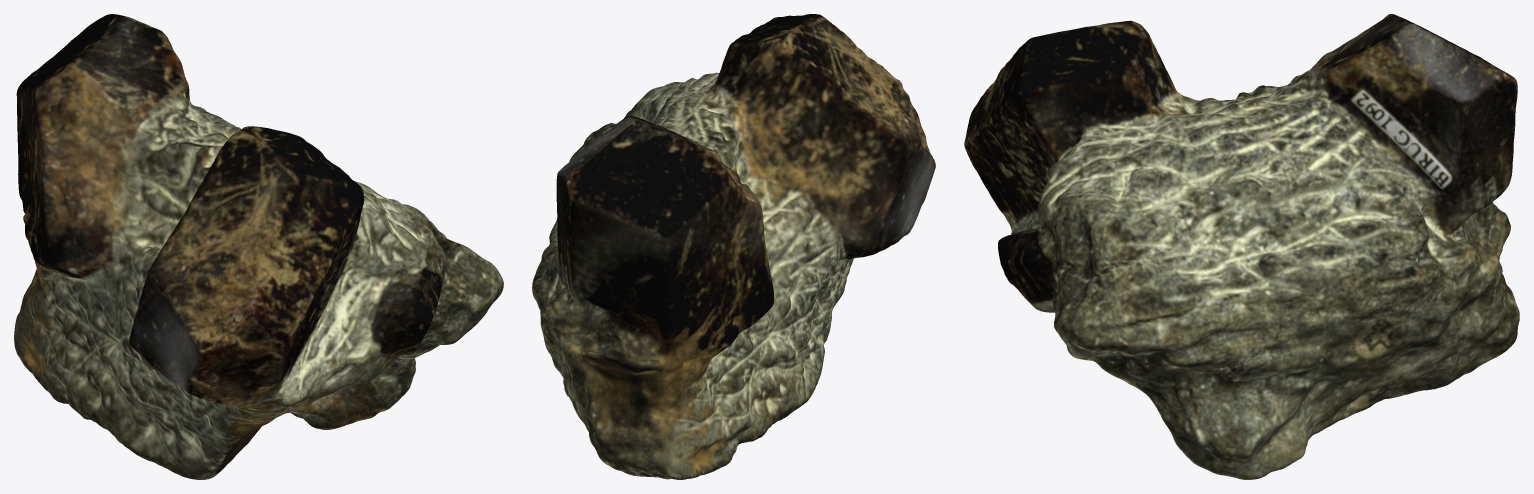
The model's file is red-garnet-real-scan.glb.
The picture shows the model from 3 angles, left to right: view 1: azimuth 30°, elevation 25°; view 2: azimuth 150°, elevation 25°; view 3: azimuth 270°, elevation 25°; orthographic projection. The views are drawn at different scales.
Parts seen in each view (by area): view 1: Object_2, Object_3; view 2: Object_2, Object_3; view 3: Object_3, Object_2.
Part boxes in pixels (x1,y1,x2,y2): Object_2: (14, 14, 503, 479); Object_3: (17, 14, 501, 479); Object_2: (532, 14, 935, 479); Object_3: (532, 14, 933, 373); Object_3: (965, 15, 1488, 475); Object_2: (964, 14, 1519, 479).
Size of the model in its own units: 0.7861 by 0.7958 by 1.04.
Materials: 1 (1 with a texture image).
